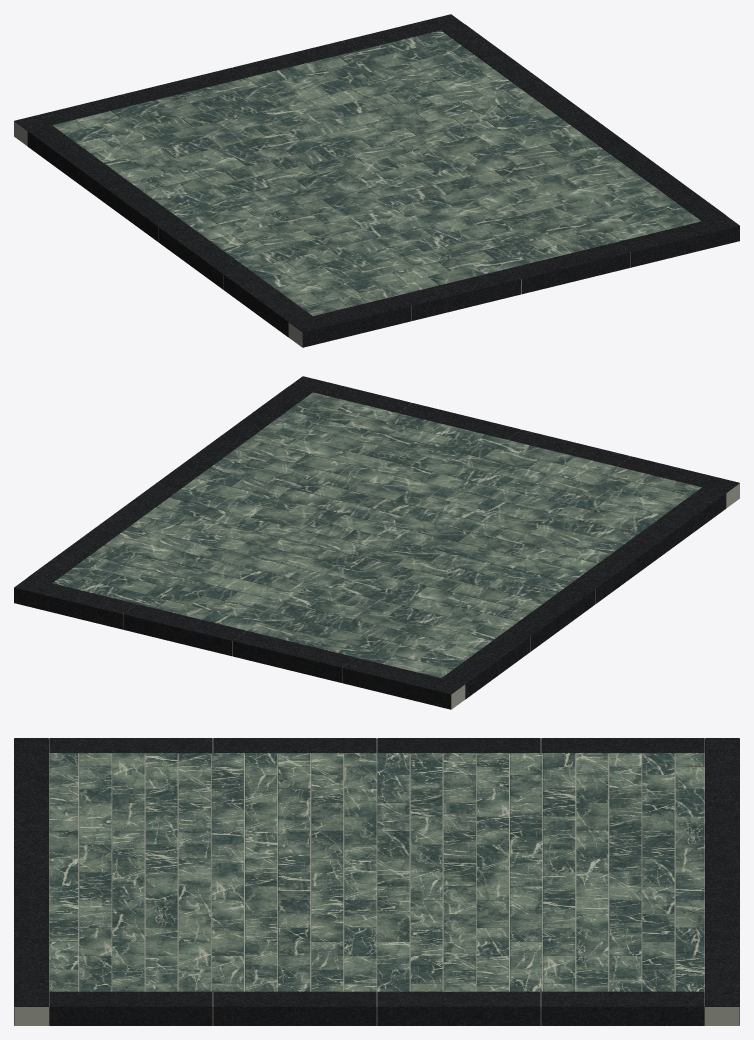
Rendered from floor-green-wide.glb.
3 views of the same model, one above another, from view 1: azimuth 30°, elevation 25°; view 2: azimuth 150°, elevation 25°; view 3: azimuth 270°, elevation 25° (orthographic). The views are drawn at different scales.
Parts seen in each view (by area): view 1: Stone_field_green, Stone_edge_green, Joint_and_bedding_green; view 2: Stone_field_green, Stone_edge_green, Joint_and_bedding_green; view 3: Stone_field_green, Stone_edge_green, Joint_and_bedding_green.
Part boxes in pixels (<box>): Stone_field_green: <box>52,30,701,316</box>; Stone_edge_green: <box>14,14,739,347</box>; Joint_and_bedding_green: <box>14,34,676,347</box>; Stone_field_green: <box>52,392,701,678</box>; Stone_edge_green: <box>14,376,739,709</box>; Joint_and_bedding_green: <box>65,402,739,709</box>; Stone_field_green: <box>49,753,704,991</box>; Stone_edge_green: <box>14,738,739,1025</box>; Joint_and_bedding_green: <box>14,739,739,1025</box>.
Bounding box in the file's own units: 2.8 × 0.096 × 3.2.
Materials: 3 (2 with a texture image).
